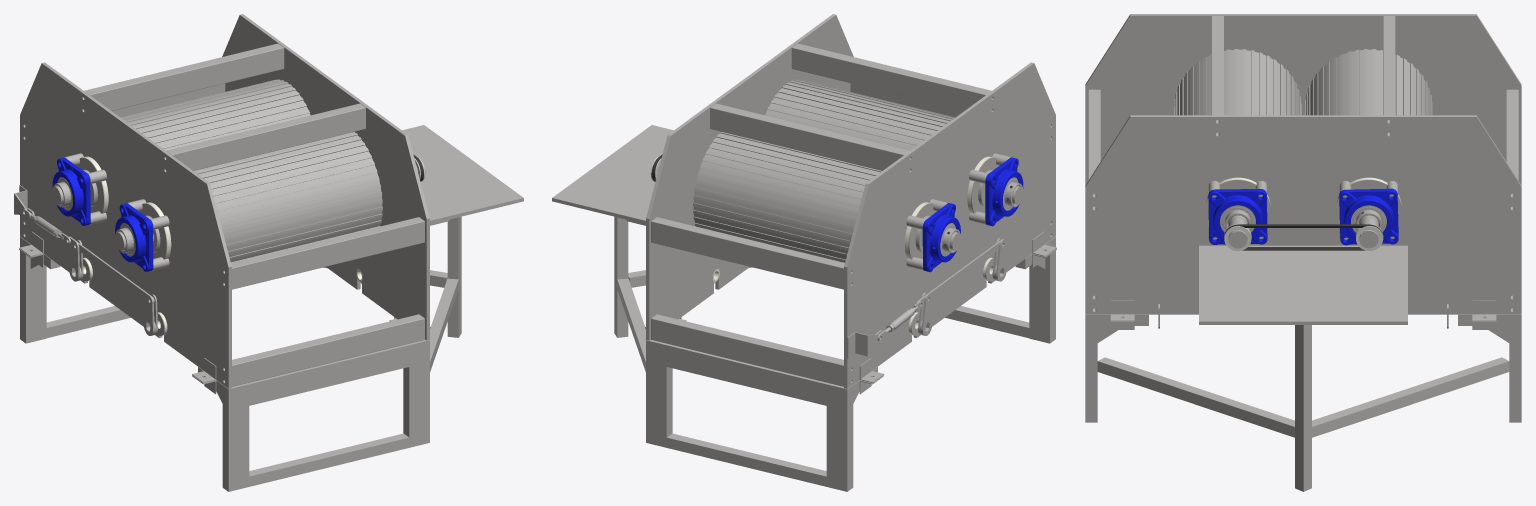
Rendered from EXTRACTORA_POLICYTRUS.glb.
3 renders of one model, left to right at view 1: azimuth 30°, elevation 25°; view 2: azimuth 150°, elevation 25°; view 3: azimuth 270°, elevation 25°, orthographic. The views are drawn at different scales.
Parts seen in each view (by area): view 1: Sólido1 (×9), Sólido2 (×2), Solid1 (×2); view 2: Sólido1 (×9), Sólido2 (×2), Solid1 (×2); view 3: Sólido1 (×9), Sólido2 (×2), Solid1 (×3).
Boxes of the visible parts, x1,y1,x2,y2 form: Sólido1 (×9): (14,14,523,491); Sólido2 (×2): (121,79,382,262); Solid1 (×2): (52,157,153,271); Sólido1 (×9): (552,14,1056,491); Sólido2 (×2): (693,79,954,262); Solid1 (×2): (922,157,1023,272); Sólido1 (×9): (1085,14,1521,491); Sólido2 (×2): (1174,49,1432,115); Solid1 (×3): (1208,188,1398,250).
Bounding box in the file's own units: 1.5 × 1.08 × 1.4.
21 materials, 1 textured.
